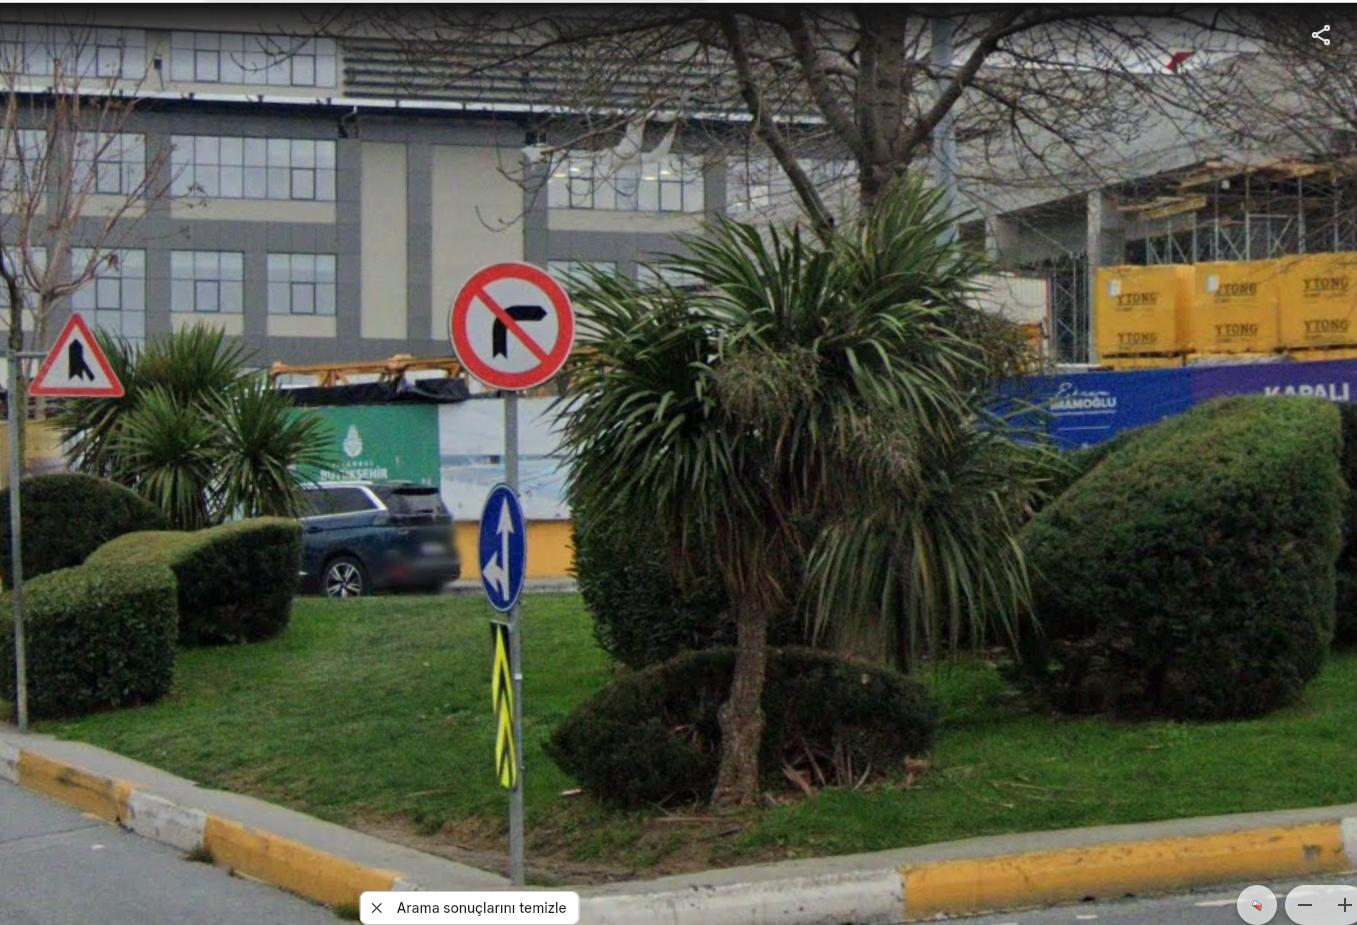rightturnsareforbidden: (458, 267, 574, 377)
